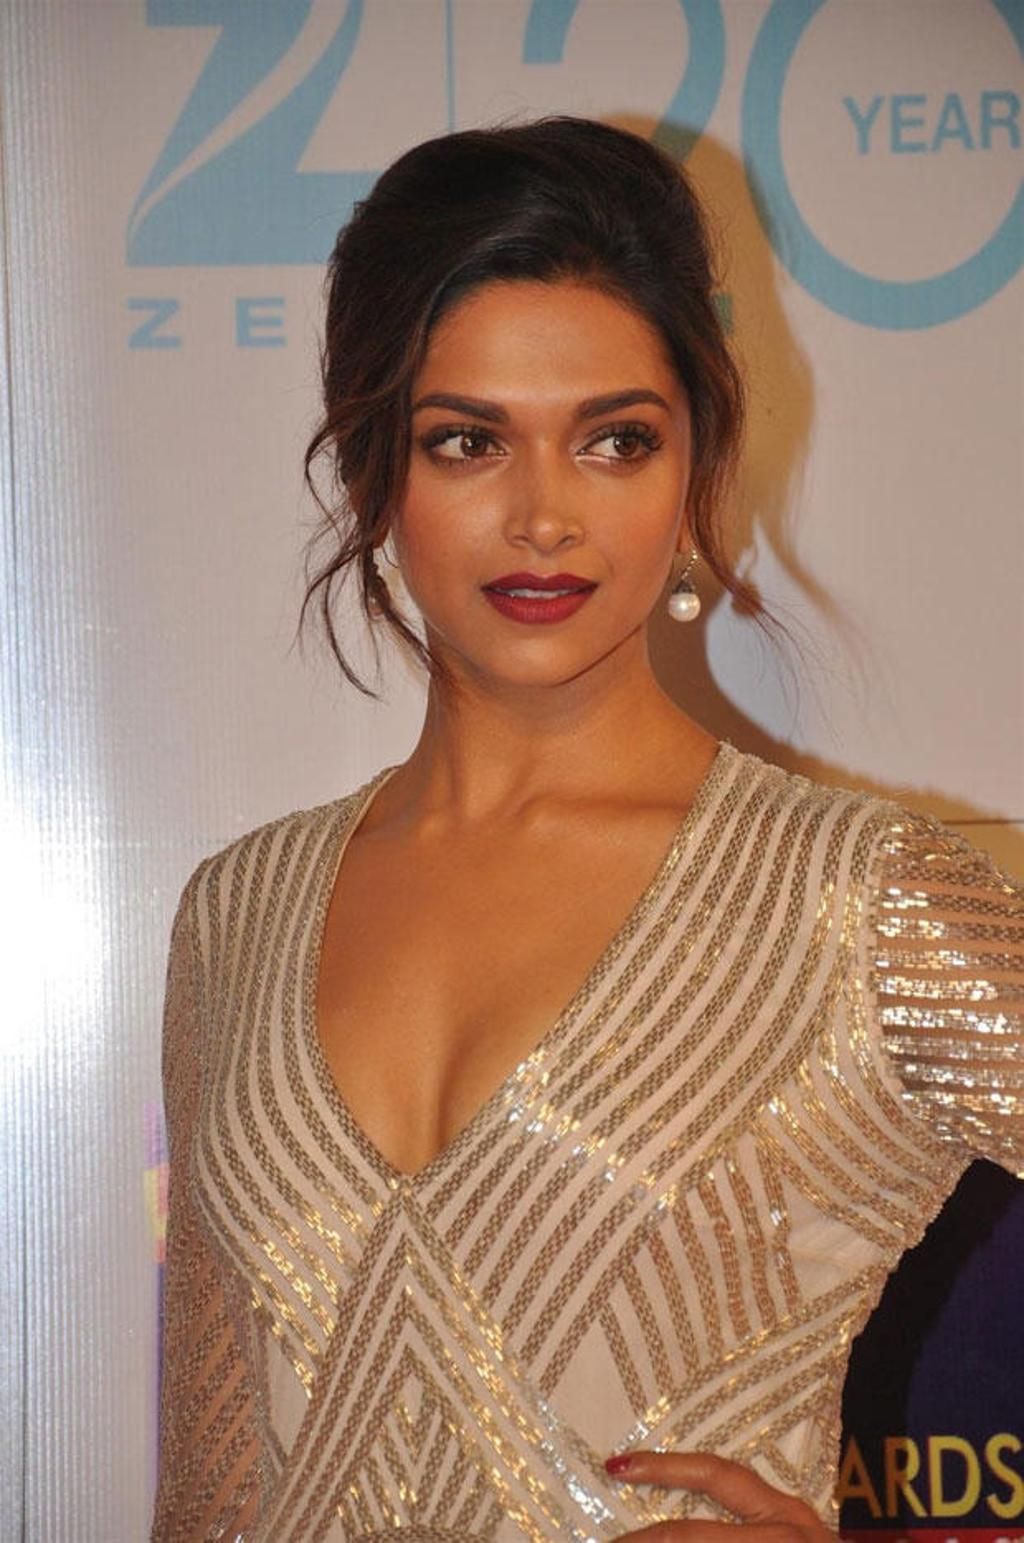face: (379, 274, 701, 684)
